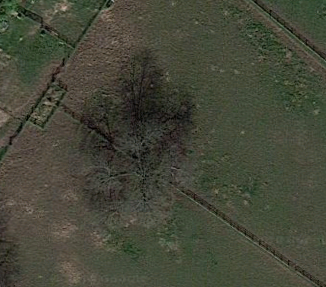tree: (73, 93, 209, 233)
